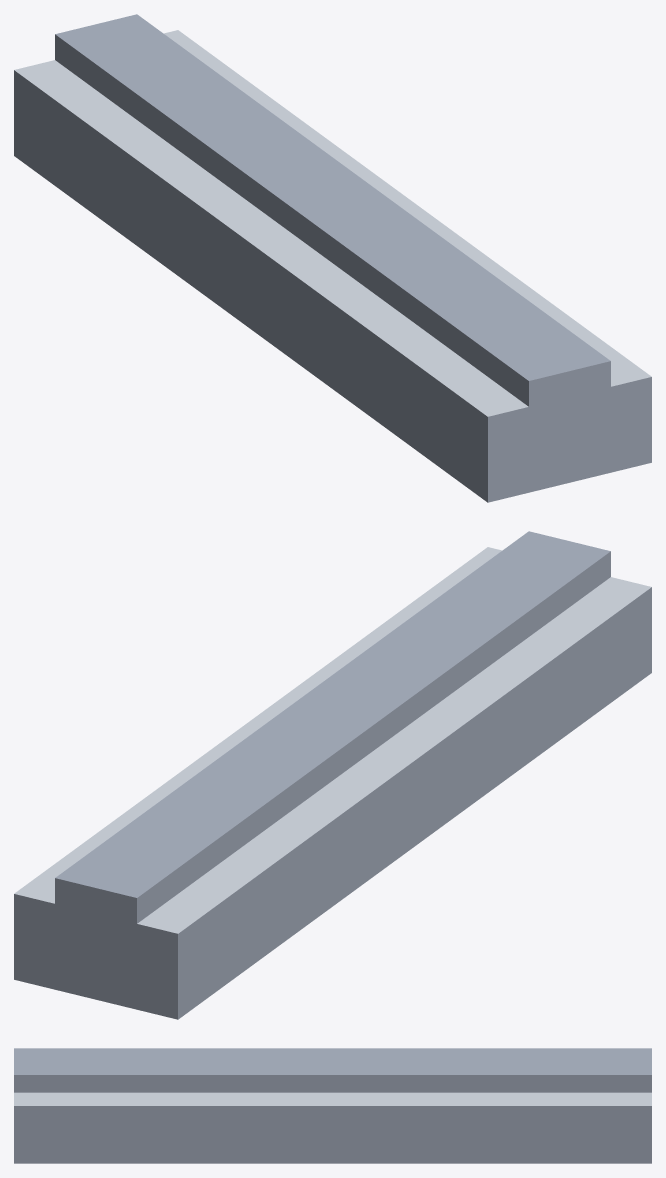
The model's file is monorail_trackStraight.glb.
3 renders of one model, top to bottom at view 1: azimuth 30°, elevation 25°; view 2: azimuth 150°, elevation 25°; view 3: azimuth 270°, elevation 25°, orthographic. The views are drawn at different scales.
Visible parts, largest first — view 1: monorail_trackStraight; view 2: monorail_trackStraight; view 3: monorail_trackStraight.
Part boxes in pixels (<box>): monorail_trackStraight: <box>14,14,651,502</box>; monorail_trackStraight: <box>14,531,651,1019</box>; monorail_trackStraight: <box>14,1048,651,1163</box>.
Bounding box in the file's own units: 0.2 × 0.13 × 1.
